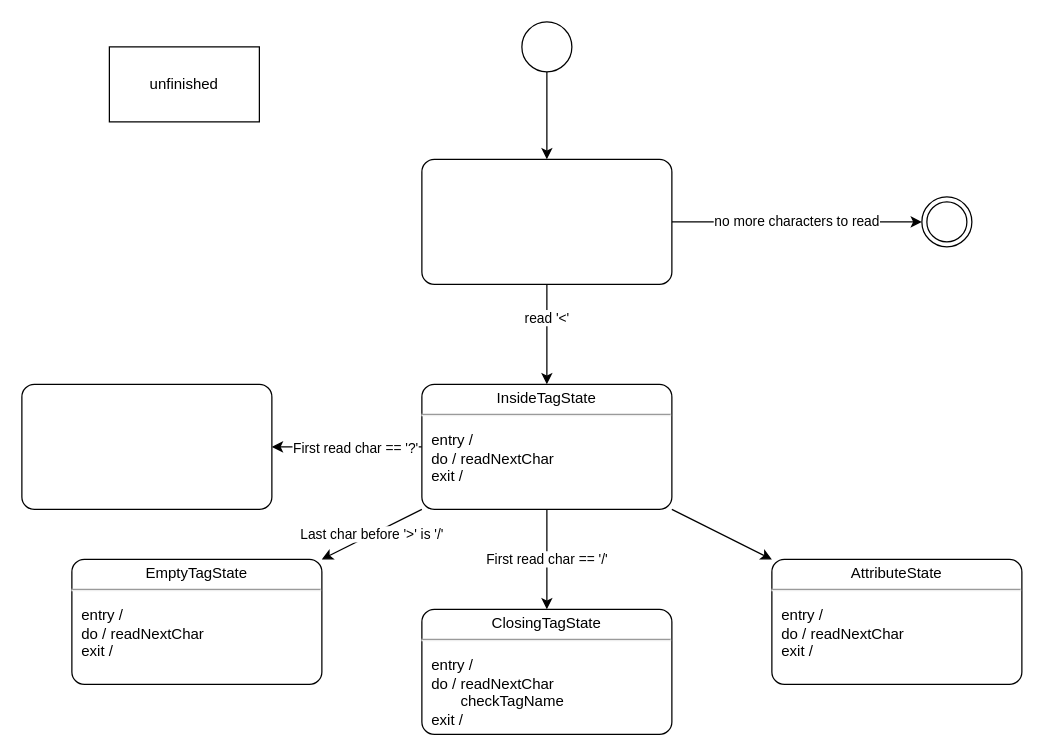
The diagram is 1044 pixels wide and 756 high, and some of its shapes have lost their labels. The shapes that lost their labels are listed below. From the top down, each one's centre as x and y in pixels, then its label:
(x=546, y=221): OutsideTagState entry / do / readNextChar exit /
(x=146, y=446): MetaDataState entry / do / readNextChar exit /
